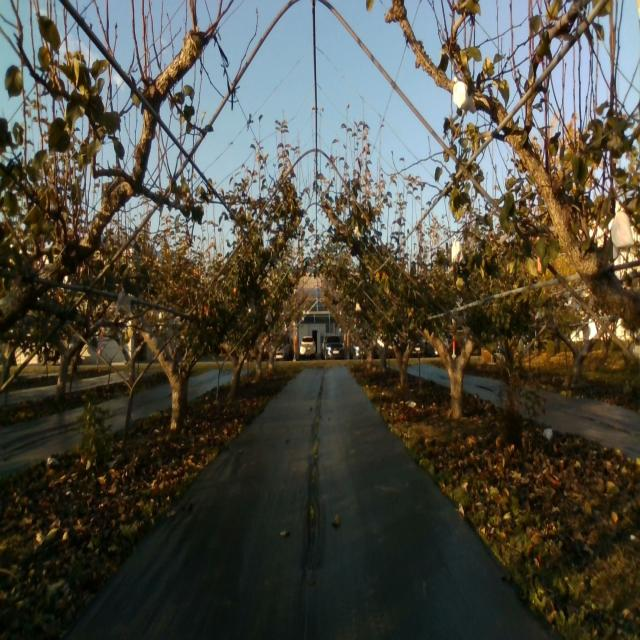pearbags: (612, 203, 634, 259), (452, 76, 477, 114), (116, 290, 131, 318), (451, 235, 464, 264)
